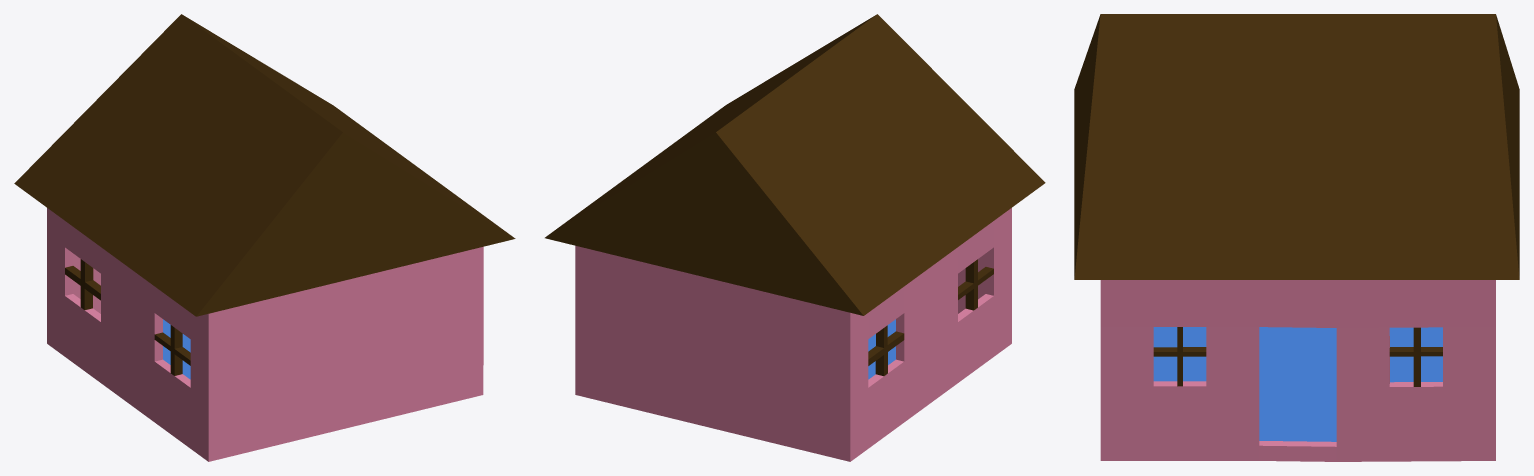
File: House.fbx
The picture shows the model from 3 angles, left to right: view 1: azimuth 30°, elevation 25°; view 2: azimuth 150°, elevation 25°; view 3: azimuth 270°, elevation 25°; orthographic projection. The views are drawn at different scales.
Parts seen in each view (by area): view 1: House; view 2: House; view 3: House.
Boxes of the visible parts, box(x1,y1,x2,y2) form: House: box(14, 14, 515, 461); House: box(545, 14, 1045, 461); House: box(1074, 14, 1519, 461).
Size of the model in its own units: 1239 by 1104 by 1221.
